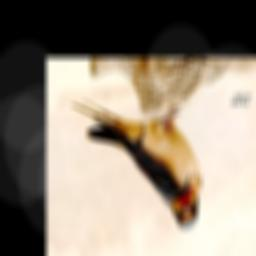Swallow: (71, 91, 203, 232)
